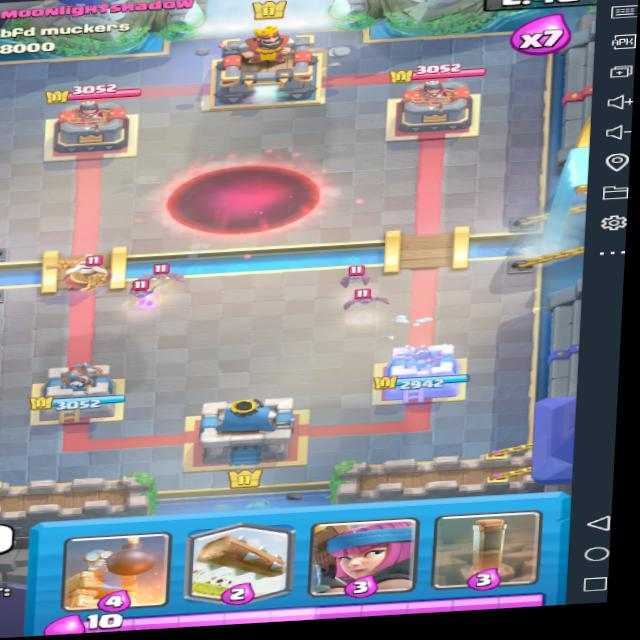bats: (335, 286, 398, 313), (122, 275, 165, 307), (141, 265, 186, 290), (338, 264, 380, 290)
monk: (46, 244, 129, 296)
void: (163, 163, 323, 241)
